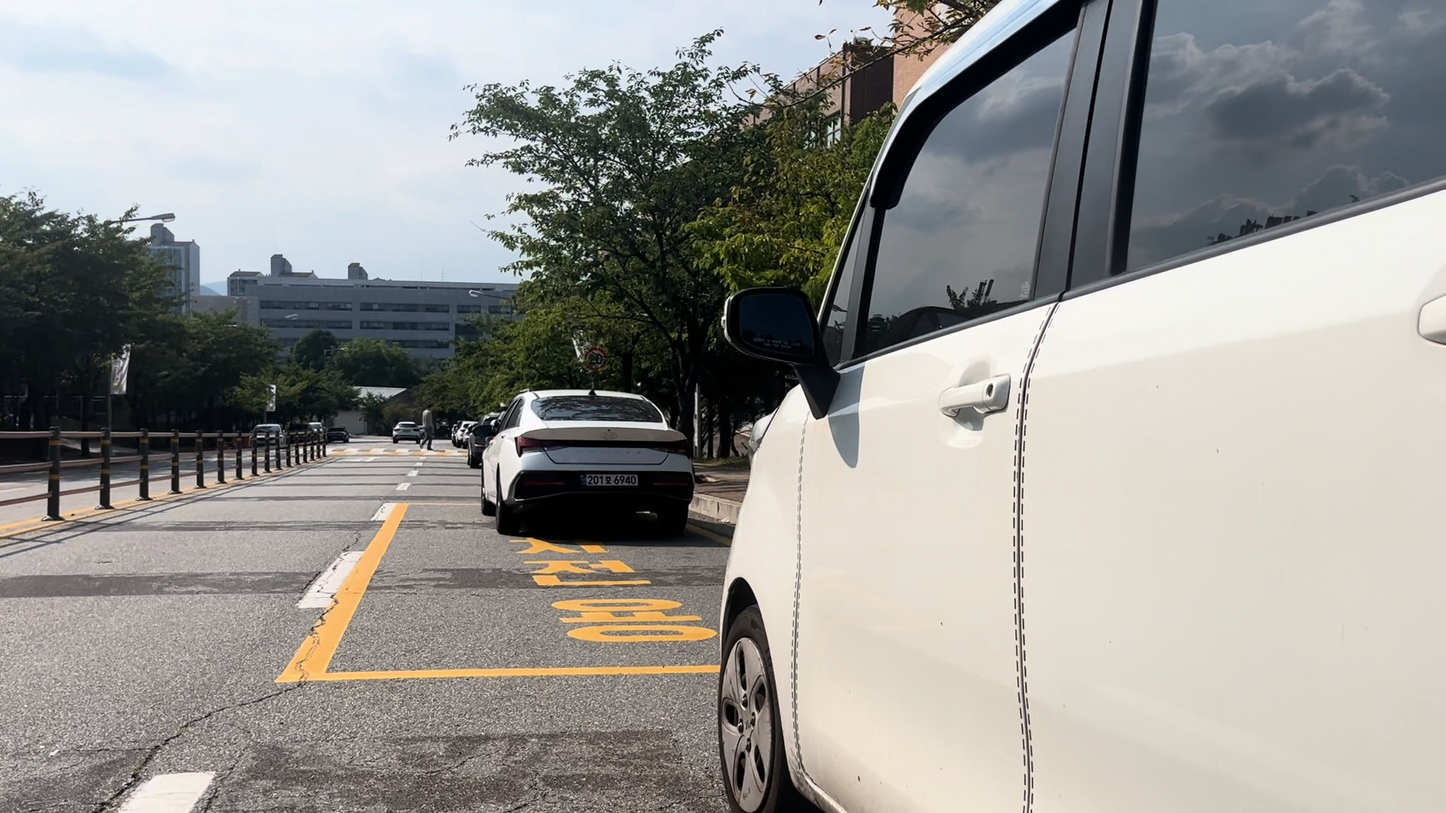door_handle: (938, 374, 1010, 416)
side_mirror: (725, 288, 838, 418)
tail_light: (653, 439, 691, 457), (514, 436, 548, 455)
